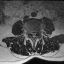CCS_normal: (32, 31, 34, 40)
LFS_severe_stenosis: (36, 29, 38, 35)
LLS_stenosis: (34, 31, 36, 37)
RFS_stenosis: (29, 29, 30, 35)
RLS_stenosis: (31, 30, 32, 36)
